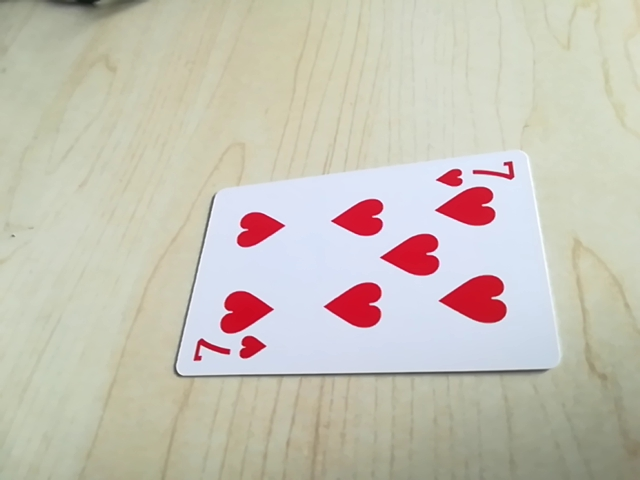hx 7: (192, 332, 269, 369), (436, 156, 518, 188)
